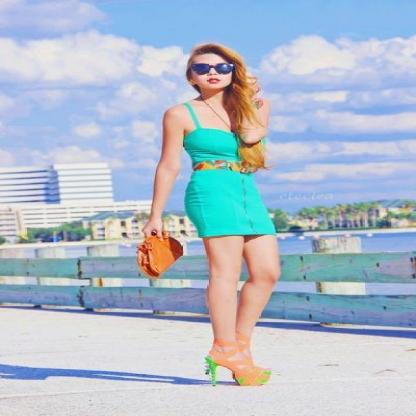bag: (137, 230, 182, 274)
dress: (183, 103, 276, 237)
shoe: (205, 358, 269, 385)
sunglass: (186, 58, 240, 80)
